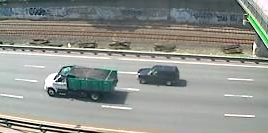car: (41, 63, 120, 103), (135, 64, 183, 87)
